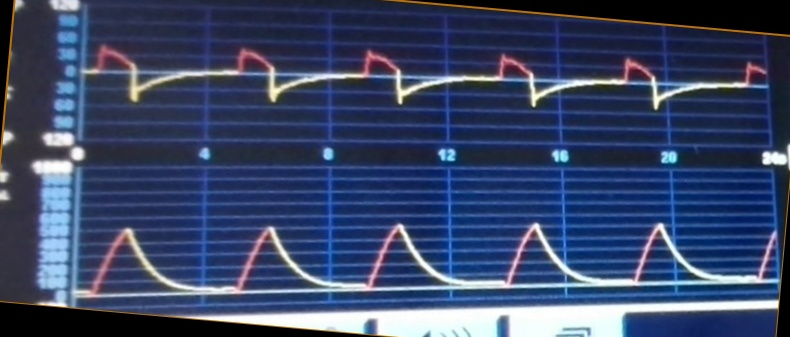Normal Flow: (85, 39, 766, 127)
Normal Volume: (80, 205, 778, 298)
